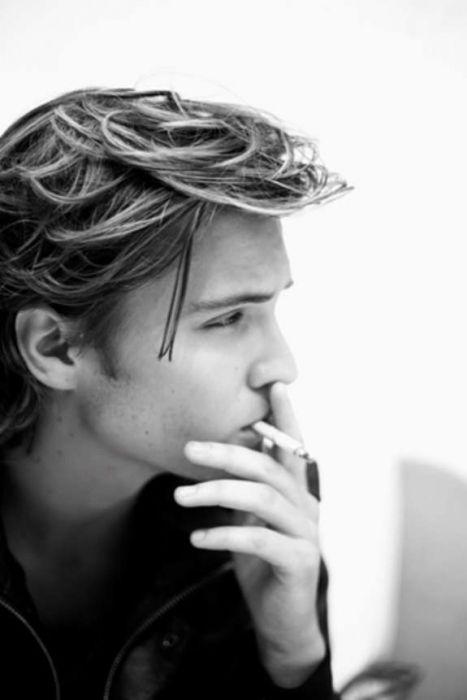cigarette: (249, 421, 314, 465)
